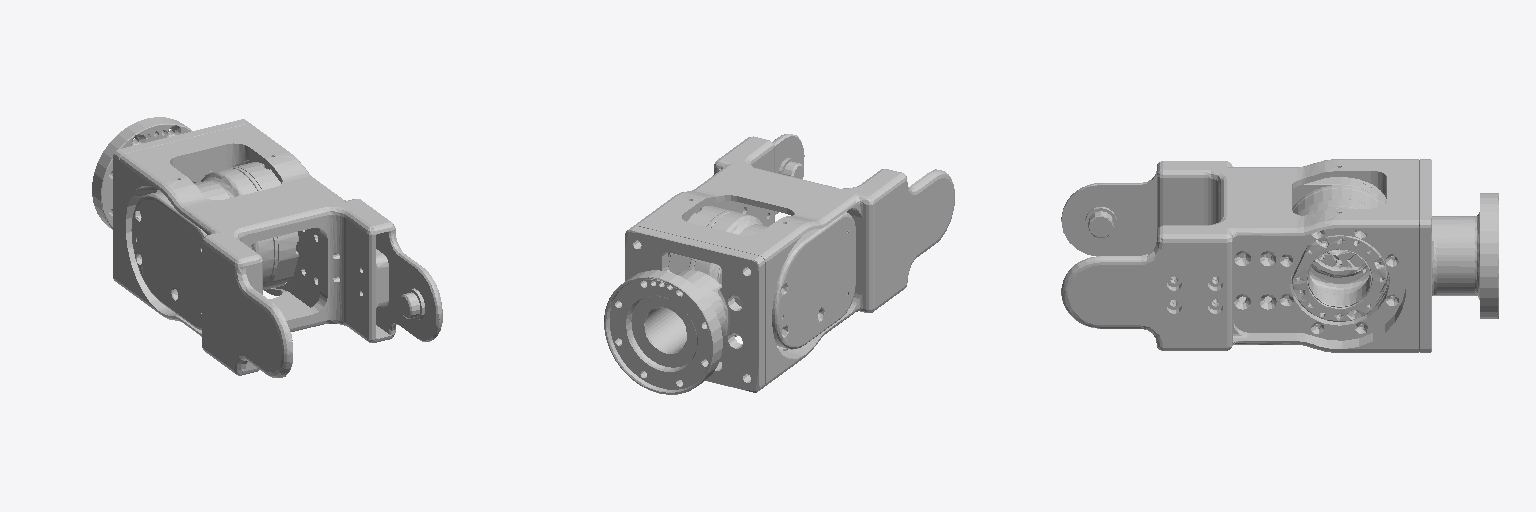
File: head_yaw_link.obj
3 renders of one model, left to right at view 1: azimuth 30°, elevation 25°; view 2: azimuth 150°, elevation 25°; view 3: azimuth 270°, elevation 25°, orthographic.
Visible parts, largest first — view 1: head_yaw_link; view 2: head_yaw_link; view 3: head_yaw_link.
Boxes of the visible parts, x1=… form: head_yaw_link: x1=92, y1=117, x2=442, y2=377; head_yaw_link: x1=604, y1=134, x2=954, y2=394; head_yaw_link: x1=1061, y1=159, x2=1498, y2=352.
Bounding box in the file's own units: 0.0582 × 0.046 × 0.1375.